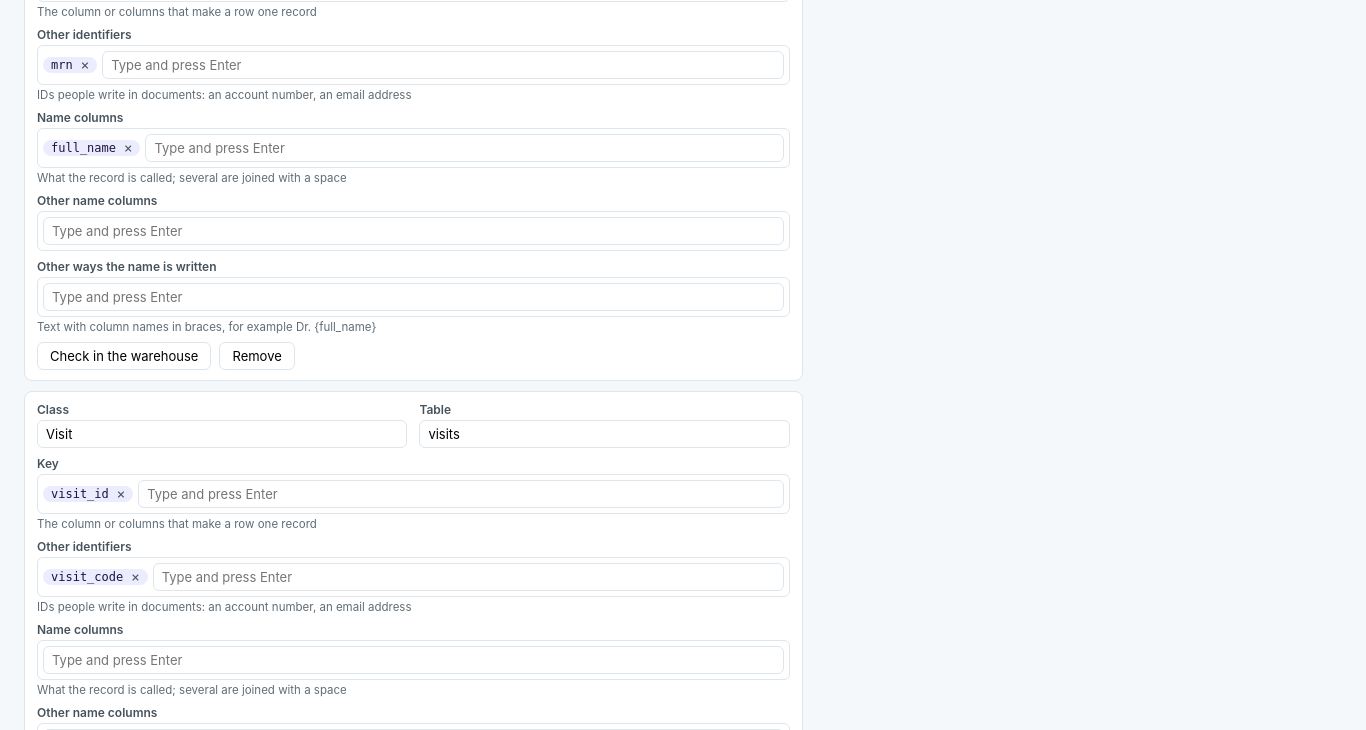
MappingTab › shows the warehouse's refusal, and a save that is refused
(page scrolled)
Click the button "Check in the warehouse" at coordinates (124, 356), box x1=37 y1=342 x2=212 y2=370
(page scrolled)
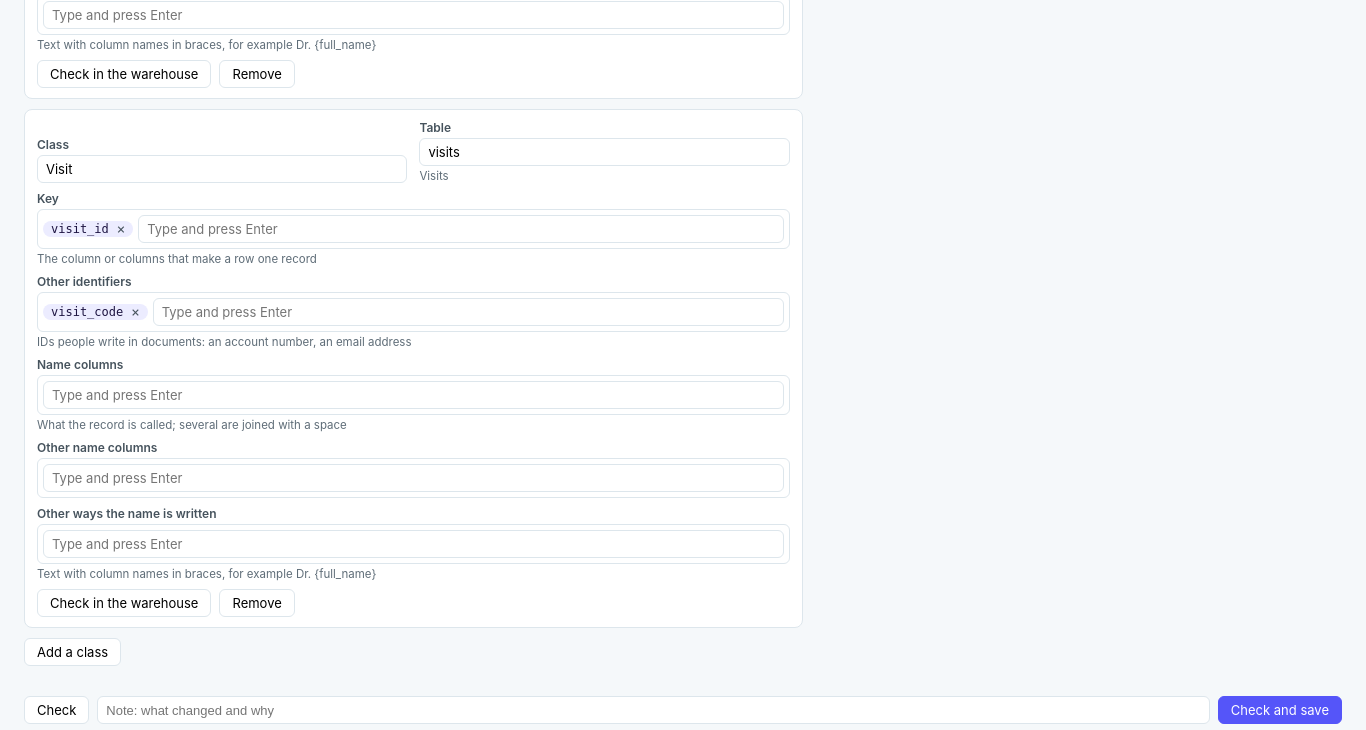
Click the button "Check and save" at coordinates (1280, 710), box x1=1218 y1=696 x2=1342 y2=724
(page scrolled)
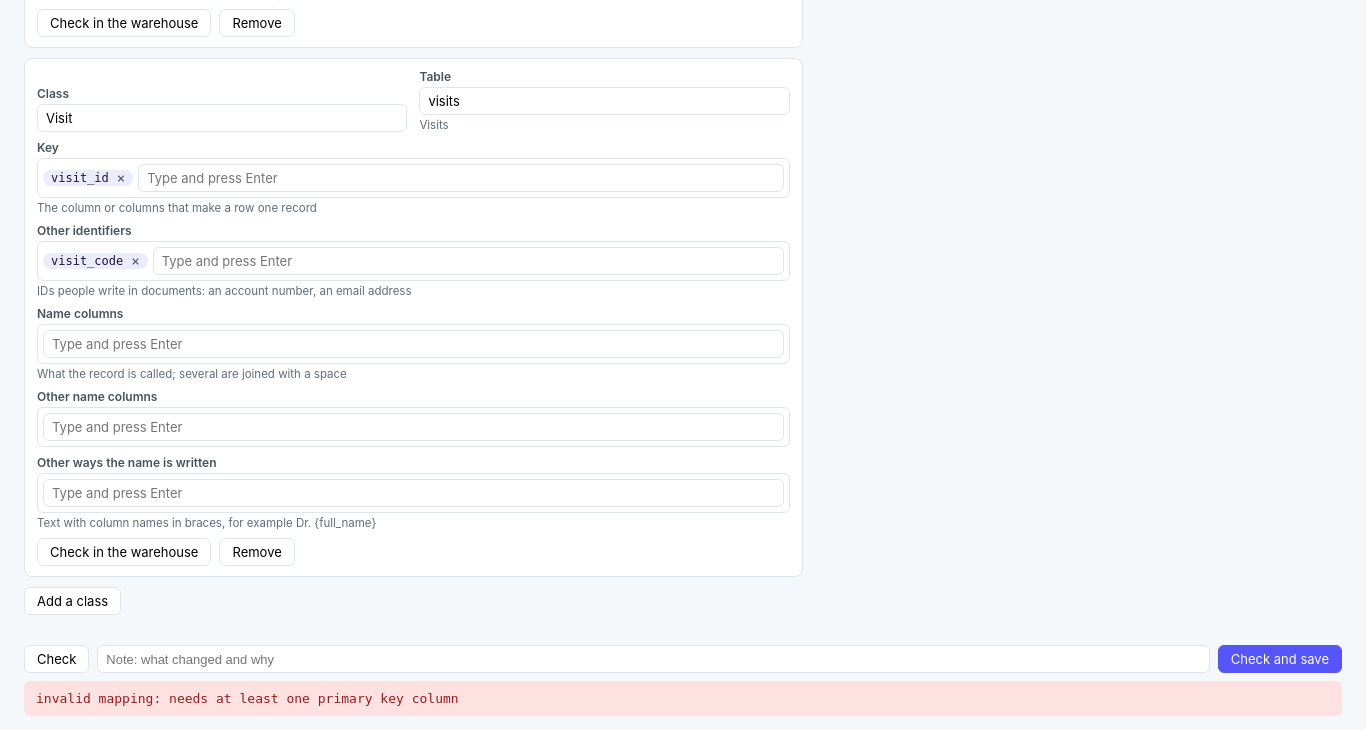
Expected: the text "invalid mapping: needs at least one primary key column" is shown, x1=24 y1=681 x2=1342 y2=716
